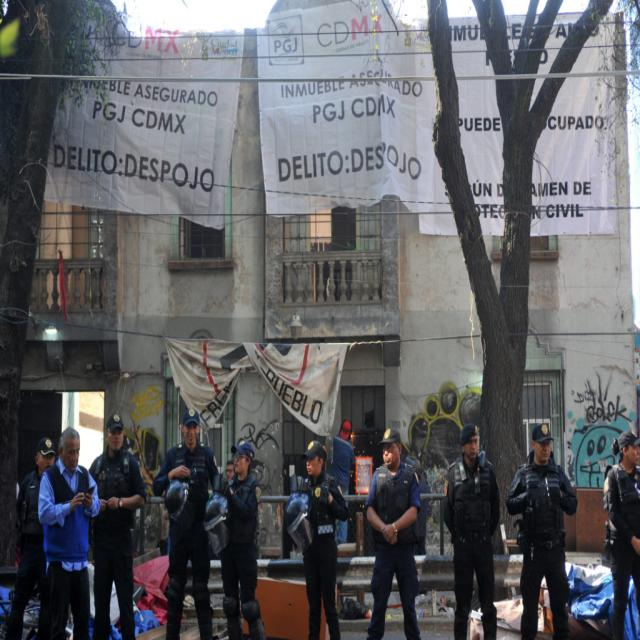stamps: (409, 11, 632, 236), (42, 14, 246, 226), (256, 2, 392, 214)
